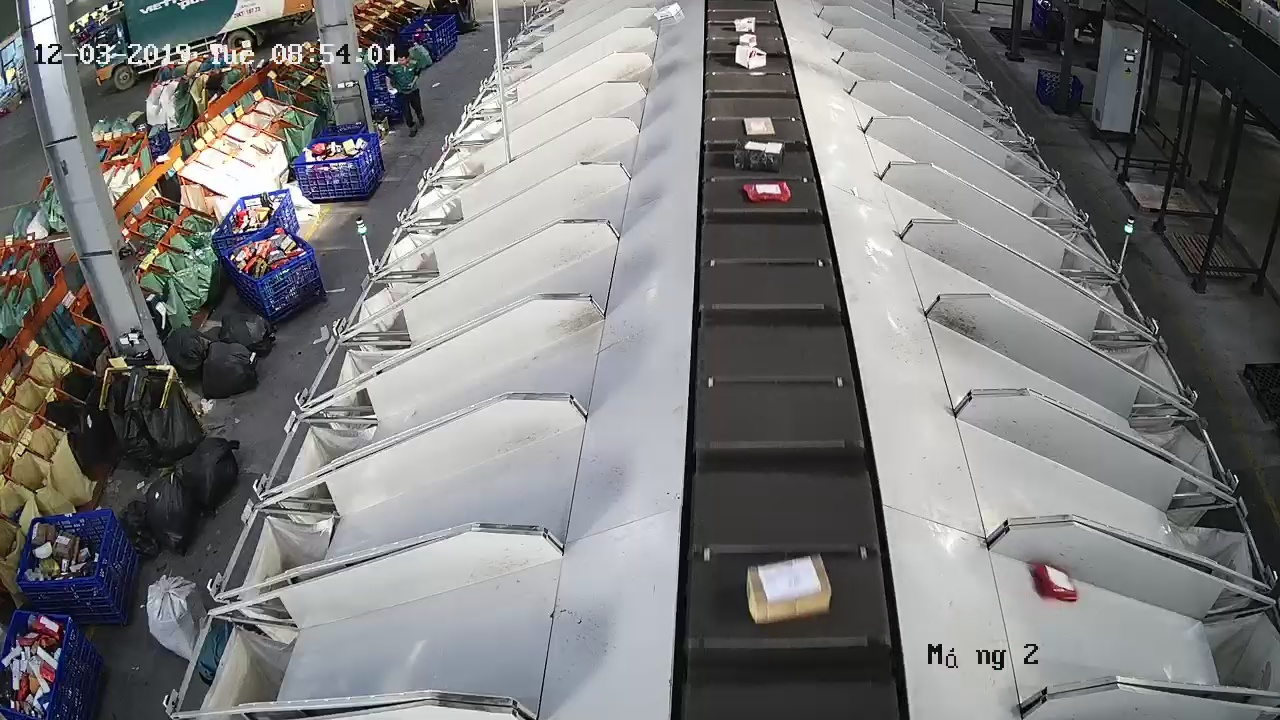parcel: (745, 552, 833, 626), (1030, 561, 1079, 603), (730, 138, 787, 173), (742, 179, 793, 205), (742, 115, 777, 138)
